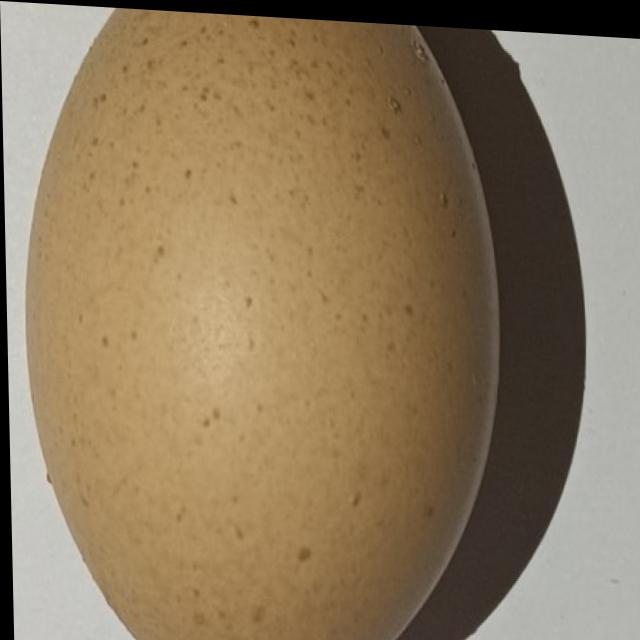unfresh: (11, 1, 515, 640)
